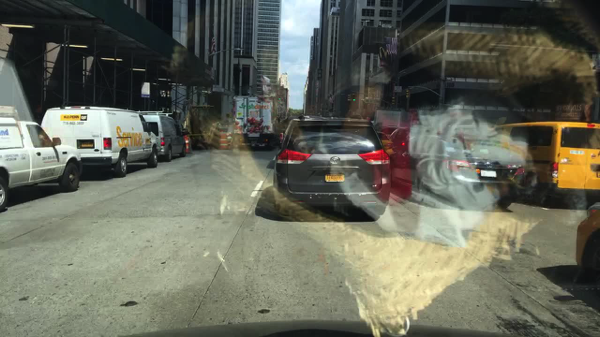car: (381, 126, 527, 208), (272, 118, 389, 216), (0, 105, 82, 213), (494, 123, 598, 207), (41, 107, 156, 178), (142, 111, 186, 161), (574, 203, 599, 276), (281, 116, 328, 134), (447, 118, 479, 131), (376, 126, 399, 144), (410, 118, 432, 136), (257, 133, 281, 149), (273, 115, 286, 131), (277, 133, 286, 146)
person: (191, 111, 203, 152)
traffic light: (404, 88, 409, 100), (391, 96, 396, 106), (347, 94, 352, 103), (352, 94, 356, 103), (277, 95, 282, 101)
traffic sign: (141, 83, 150, 97), (445, 82, 455, 89), (364, 99, 380, 103), (394, 86, 402, 93), (439, 78, 452, 82), (212, 88, 223, 92), (198, 90, 211, 93)
truck: (232, 96, 274, 149), (373, 108, 410, 133)
